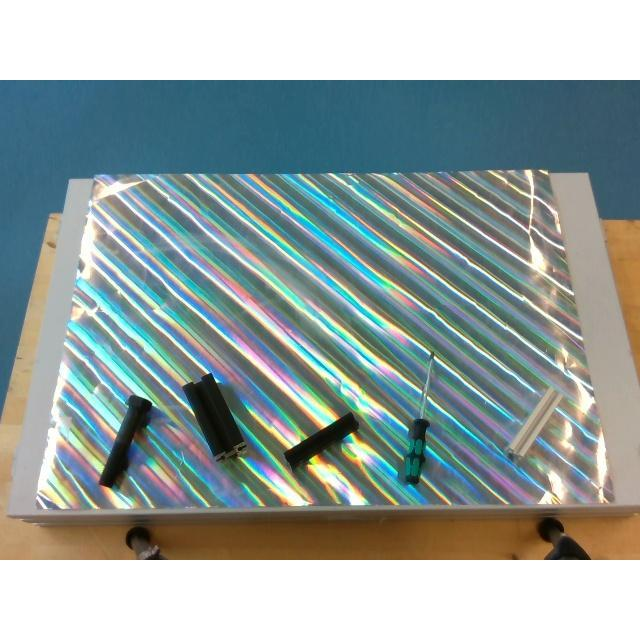F20_20_B: (284, 412, 360, 472)
F20_20_G: (506, 388, 562, 457)
M20_100: (99, 394, 151, 486)
S40_40_B: (182, 372, 245, 460)
Screwdriver: (403, 353, 432, 485)
